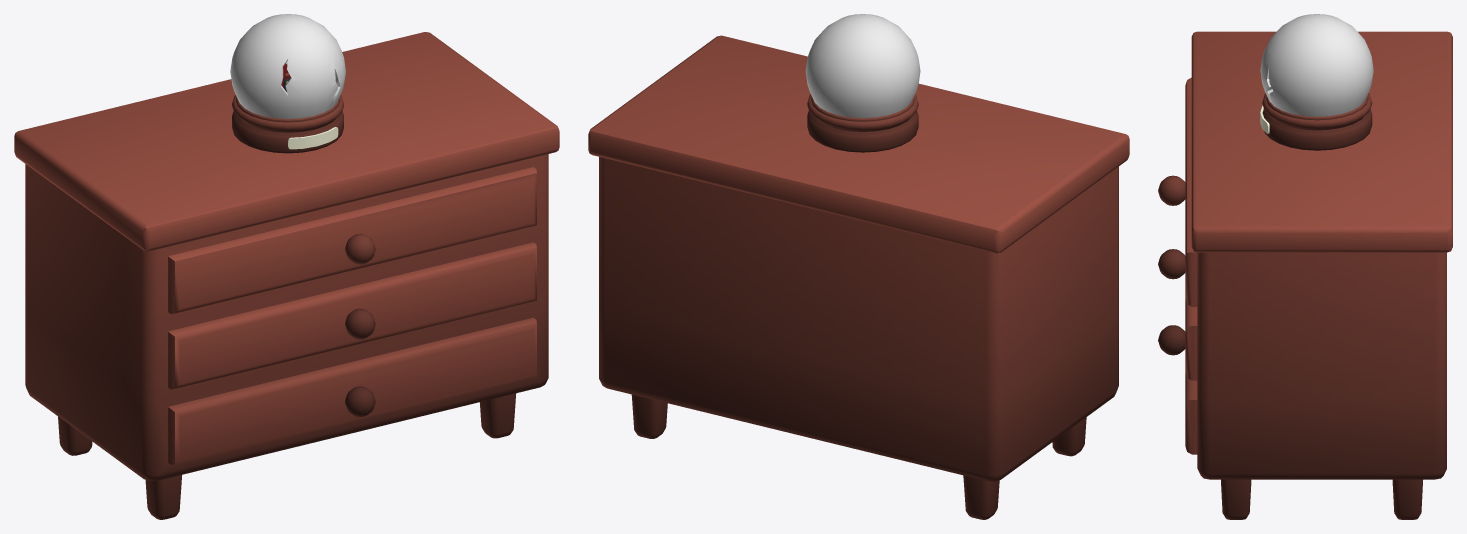
File: SnowGlobe.fbx
3 views of the same model, side by side, from view 1: azimuth 30°, elevation 25°; view 2: azimuth 150°, elevation 25°; view 3: azimuth 270°, elevation 25° (orthographic). The views are drawn at different scales.
Parts seen in each view (by area): view 1: Dresser, SnowGlobeTop, SnowGlobeBottom; view 2: Dresser, SnowGlobeTop, SnowGlobeBottom; view 3: Dresser, SnowGlobeTop, SnowGlobeBottom.
Boxes of the visible parts, x1,y1,x2,y2 form: Dresser: (14, 32, 559, 519); SnowGlobeTop: (230, 14, 345, 118); SnowGlobeBottom: (232, 95, 343, 153); Dresser: (588, 35, 1129, 519); SnowGlobeTop: (805, 14, 920, 118); SnowGlobeBottom: (807, 94, 918, 152); Dresser: (1158, 31, 1452, 519); SnowGlobeTop: (1260, 14, 1373, 116); SnowGlobeBottom: (1260, 89, 1372, 150).
Size of the model in its own units: 1762 by 1726 by 1104.
